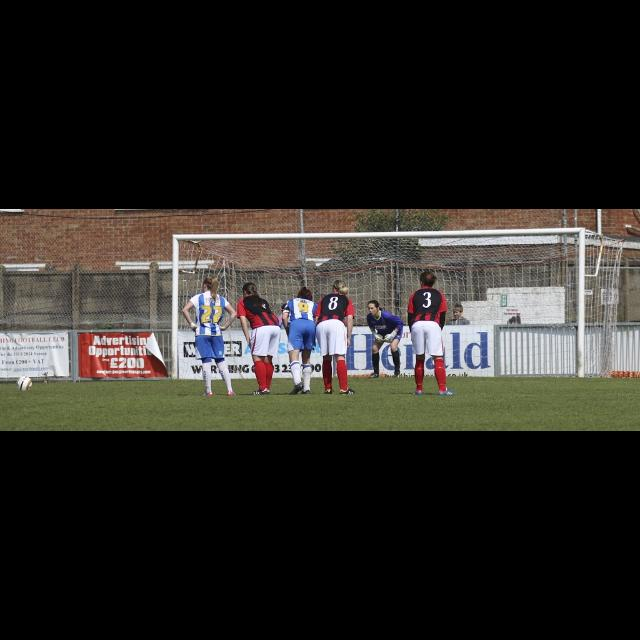Football: (15, 376, 30, 392)
